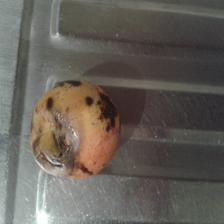Mango Rotten: (26, 86, 124, 177)
